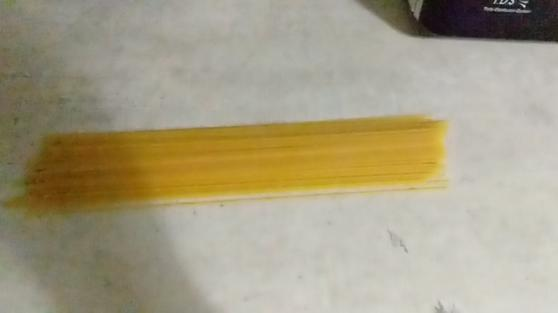spaghetti: (25, 110, 466, 212)
